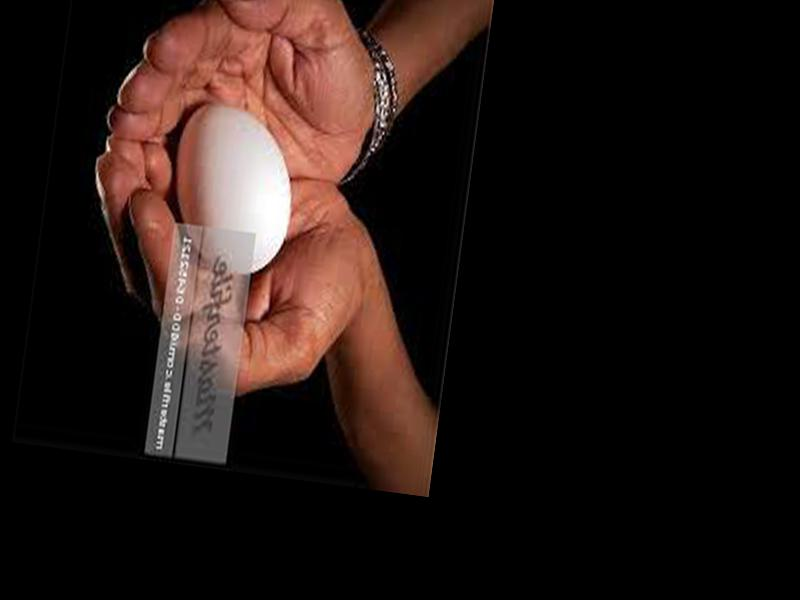Eggs: (161, 97, 303, 279)
